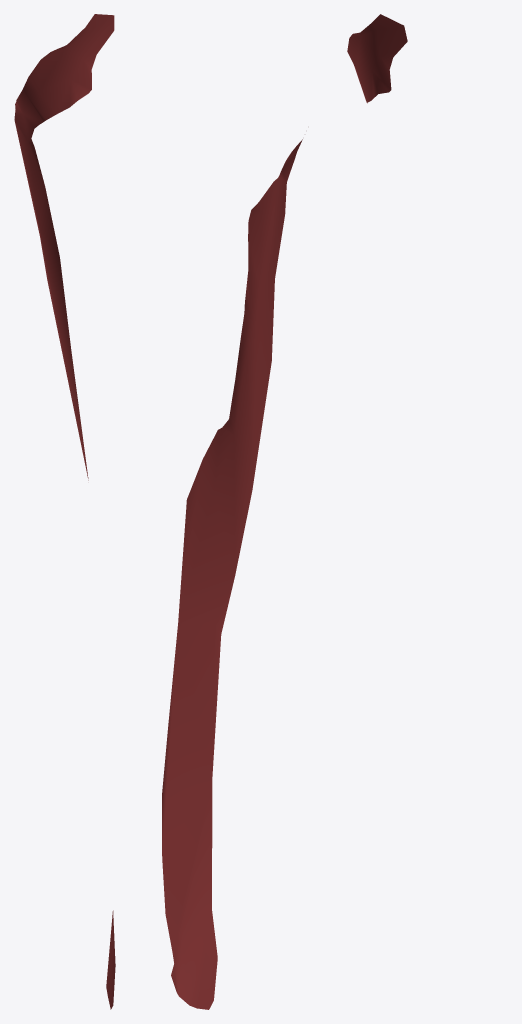
Rendered from vastus-lateralis-muscle-or.glb.
The picture shows the model from 3 angles, left to right: view 1: azimuth 30°, elevation 25°; view 2: azimuth 150°, elevation 25°; view 3: azimuth 330°, elevation 25°; orthographic projection. The views are drawn at different scales.
Visible parts, largest first — view 1: Vastus lateralis muscle.or; view 2: Vastus lateralis muscle.or; view 3: Vastus lateralis muscle.or.
Part boxes in pixels (left/top/right/bottom): Vastus lateralis muscle.or: left=14, top=14, right=115, bottom=1009; Vastus lateralis muscle.or: left=162, top=139, right=302, bottom=1009; Vastus lateralis muscle.or: left=347, top=14, right=407, bottom=103.
Size of the model in its own units: 0.043 by 0.3146 by 0.029.
